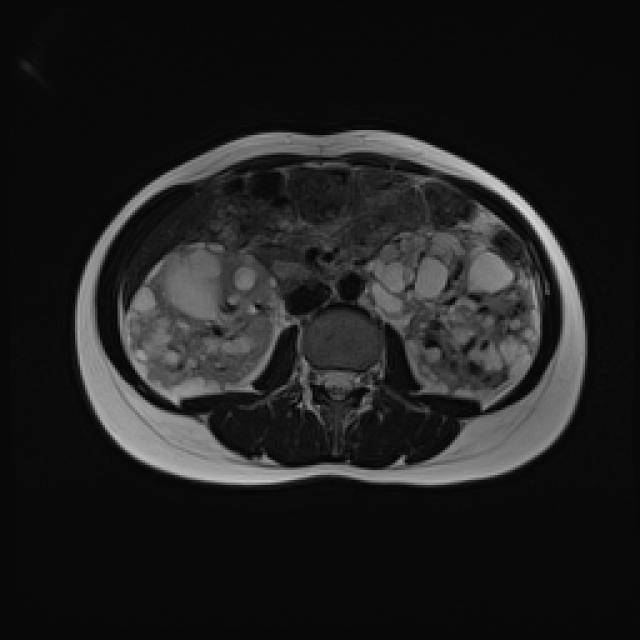sag: (123, 240, 286, 400)
sol: (363, 224, 541, 402)
